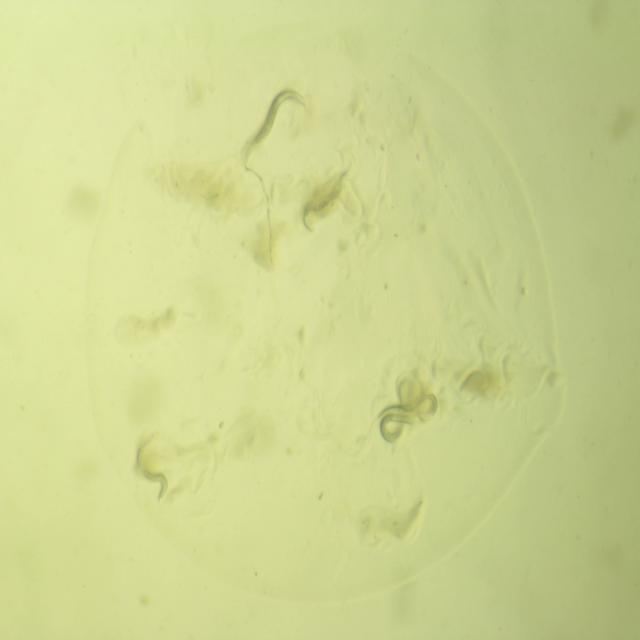worm: (241, 82, 314, 170), (290, 159, 358, 241), (364, 389, 444, 443), (375, 378, 417, 454), (130, 435, 171, 506)
